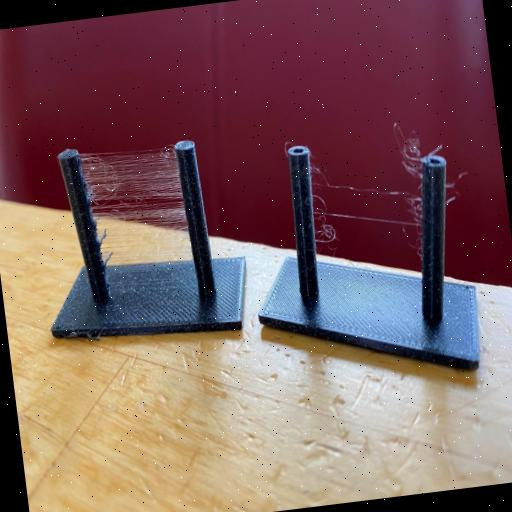stringing: (313, 112, 425, 269), (82, 147, 200, 289)
